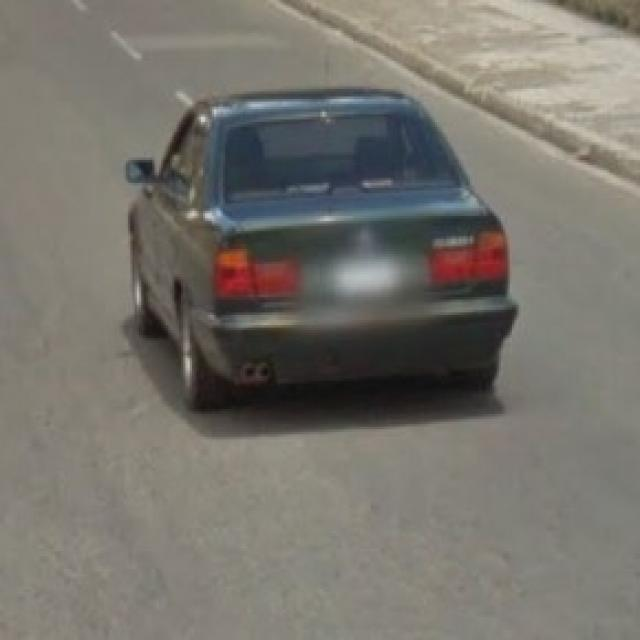Car: (112, 76, 530, 391)
